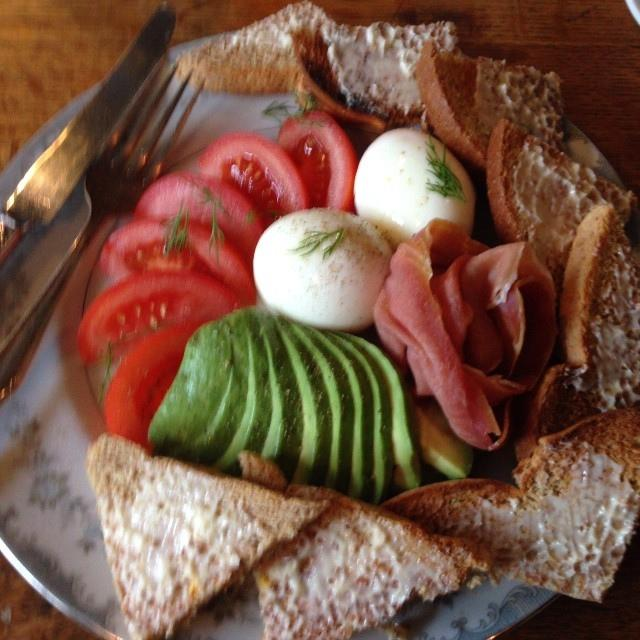avocado: (304, 324, 378, 506), (338, 332, 422, 489), (286, 316, 356, 498), (324, 332, 394, 506), (172, 314, 250, 468), (208, 305, 274, 477), (148, 320, 231, 456), (273, 314, 333, 487), (252, 303, 304, 486), (413, 396, 474, 480)
tomato: (78, 268, 240, 368), (106, 308, 210, 453), (133, 170, 270, 276), (100, 214, 256, 307), (197, 132, 310, 232), (276, 110, 358, 214)
